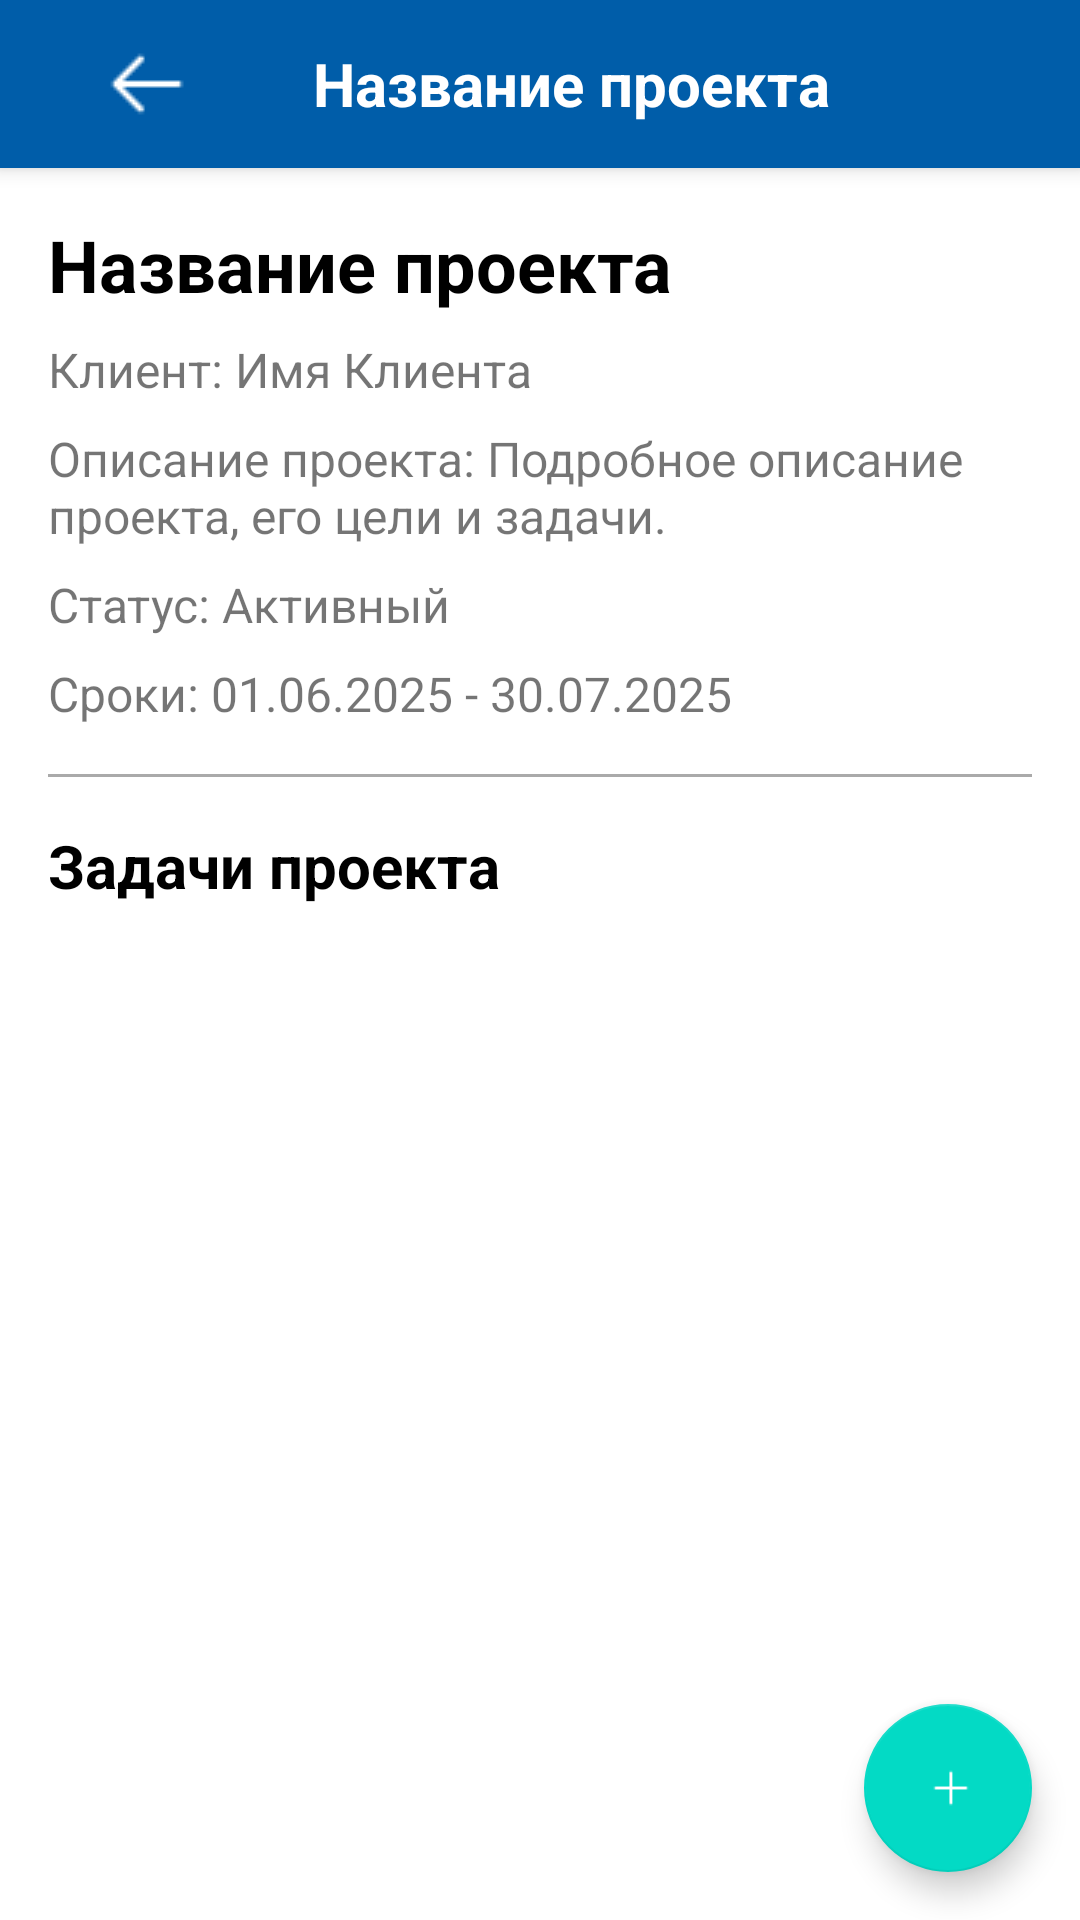

Icons on this 1080×1920 Android screen, each with its box as (x1=x1, y1=y1, x2=x2, y2=y2):
Добавить новую задачу: (x1=864, y1=1704, x2=1032, y2=1872)
Назад: (x1=111, y1=54, x2=183, y2=114)
